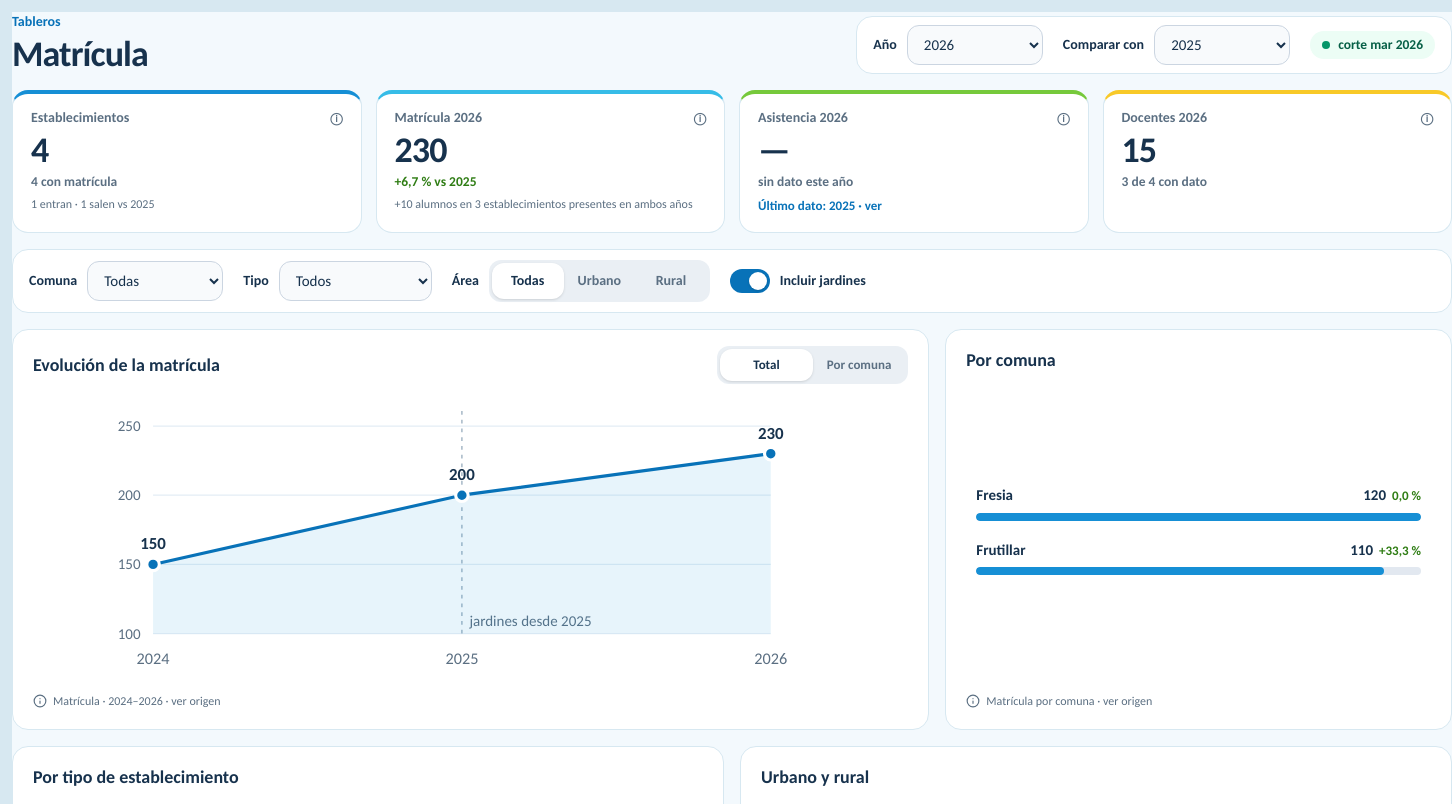
Test: FE24: tablero de matrícula › FE24-E: sin asistencia ese año lo dice y ofrece ir al último año con dato
Expected: the heading "Matrícula" is shown, top-left (12, 34), bottom-right (148, 74)
Expected: the text "—" is shown, top-left (758, 128), bottom-right (790, 172)
What coordinates should you click on to do the following:
click the button "Último dato: 2025 · ver"
I would click on:
 (820, 206)
Its box is top-left (754, 196), bottom-right (886, 216).
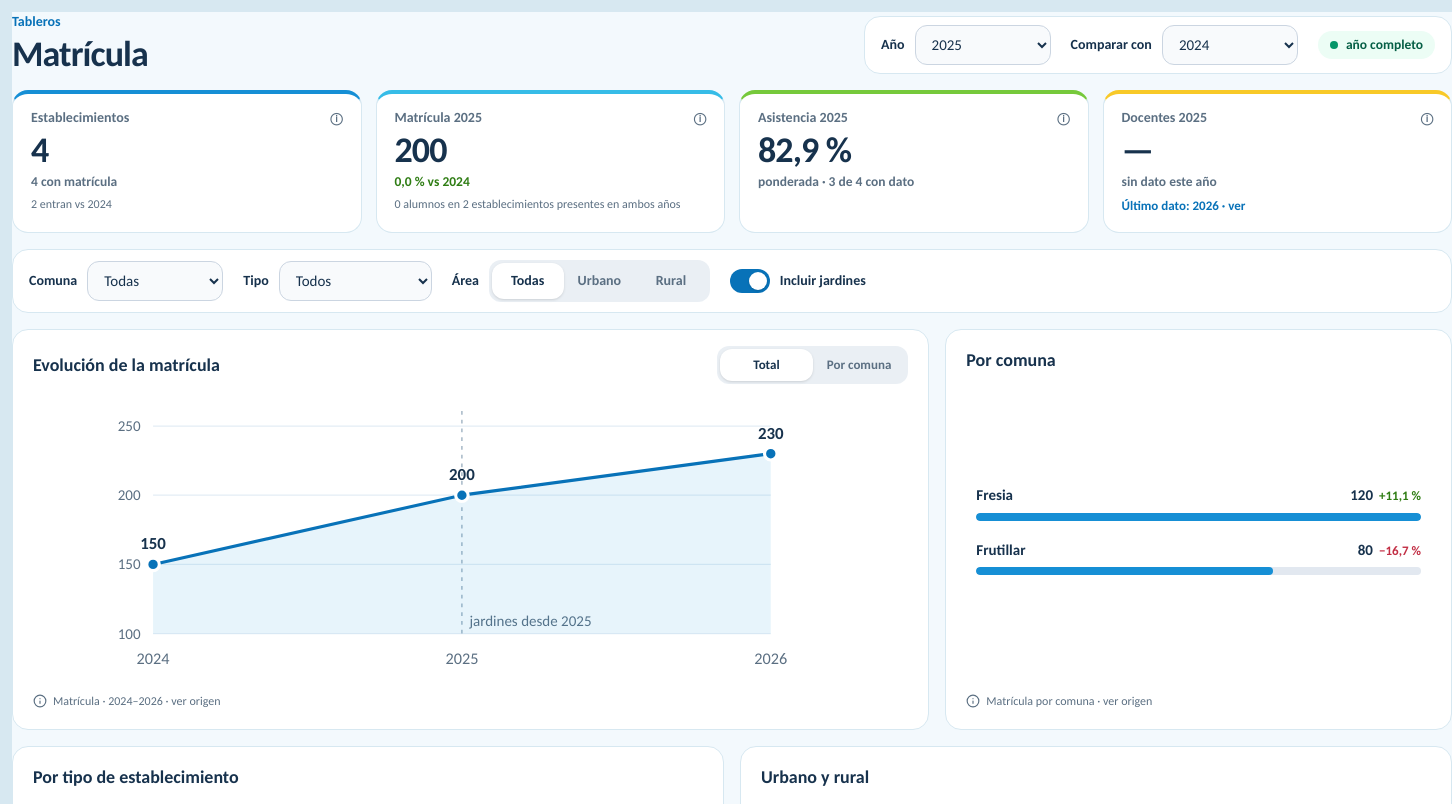
Result: the dropdown labelled "Año" shows "2025" at top-left (915, 25), bottom-right (1051, 65)
Result: the text "ponderada · 3 de 4 con dato" is shown at top-left (758, 173), bottom-right (914, 190)
Result: the text "82,9 %" is shown at top-left (758, 128), bottom-right (851, 172)
